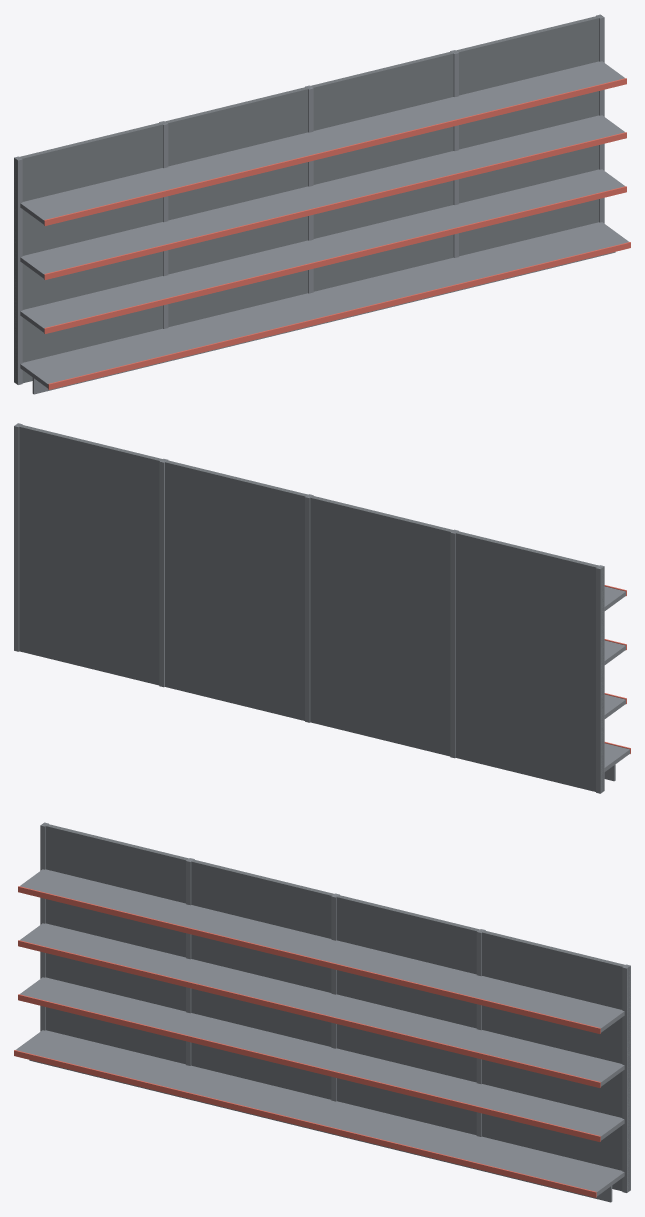
File: gondola_shelf_section.glb
3 views of the same model, one above another, from view 1: azimuth 30°, elevation 25°; view 2: azimuth 150°, elevation 25°; view 3: azimuth 330°, elevation 25° (orthographic).
Visible parts, largest first — view 1: Cube, Cube.006, Cube.012, Cube.008, Cube.010, Cube.009, Cube.013, Cube.007, Cube.011, Cube.001, Cube.014, Cube.005 (+3 smaller); view 2: Cube, Cube.001, Cube.003, Cube.004, Cube.005, Cube.002; view 3: Cube, Cube.006, Cube.012, Cube.008, Cube.010, Cube.009, Cube.013, Cube.007, Cube.011, Cube.005, Cube.014, Cube.001 (+3 smaller).
Boxes of the visible parts, bbox=[...] form: Cube: bbox=[14, 15, 603, 383]; Cube.006: bbox=[20, 222, 628, 388]; Cube.012: bbox=[20, 61, 624, 224]; Cube.008: bbox=[20, 169, 624, 332]; Cube.010: bbox=[20, 115, 624, 278]; Cube.009: bbox=[44, 186, 626, 333]; Cube.013: bbox=[44, 78, 626, 225]; Cube.007: bbox=[48, 242, 630, 389]; Cube.011: bbox=[44, 132, 626, 279]; Cube.001: bbox=[14, 156, 22, 384]; Cube.014: bbox=[32, 252, 615, 394]; Cube.005: bbox=[596, 14, 604, 223]; Cube: bbox=[15, 423, 603, 792]; Cube.001: bbox=[596, 565, 604, 793]; Cube.003: bbox=[305, 494, 313, 722]; Cube.004: bbox=[159, 458, 167, 687]; Cube.005: bbox=[14, 423, 22, 651]; Cube.002: bbox=[450, 529, 458, 758]; Cube: bbox=[41, 823, 630, 1192]; Cube.006: bbox=[16, 1030, 624, 1196]; Cube.012: bbox=[20, 869, 624, 1032]; Cube.008: bbox=[20, 977, 624, 1140]; Cube.010: bbox=[20, 923, 624, 1086]; Cube.009: bbox=[18, 994, 600, 1141]; Cube.013: bbox=[18, 886, 600, 1033]; Cube.007: bbox=[14, 1050, 596, 1197]; Cube.011: bbox=[18, 940, 600, 1087]; Cube.005: bbox=[622, 964, 630, 1192]; Cube.014: bbox=[29, 1060, 612, 1202]; Cube.001: bbox=[40, 822, 48, 1031].
Bounding box in the file's own units: 5 × 1.83 × 0.484.
